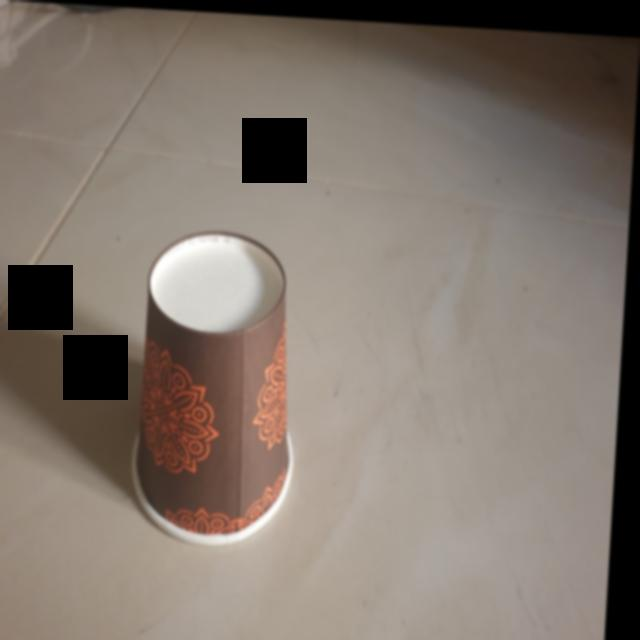cups: (123, 220, 318, 553)
